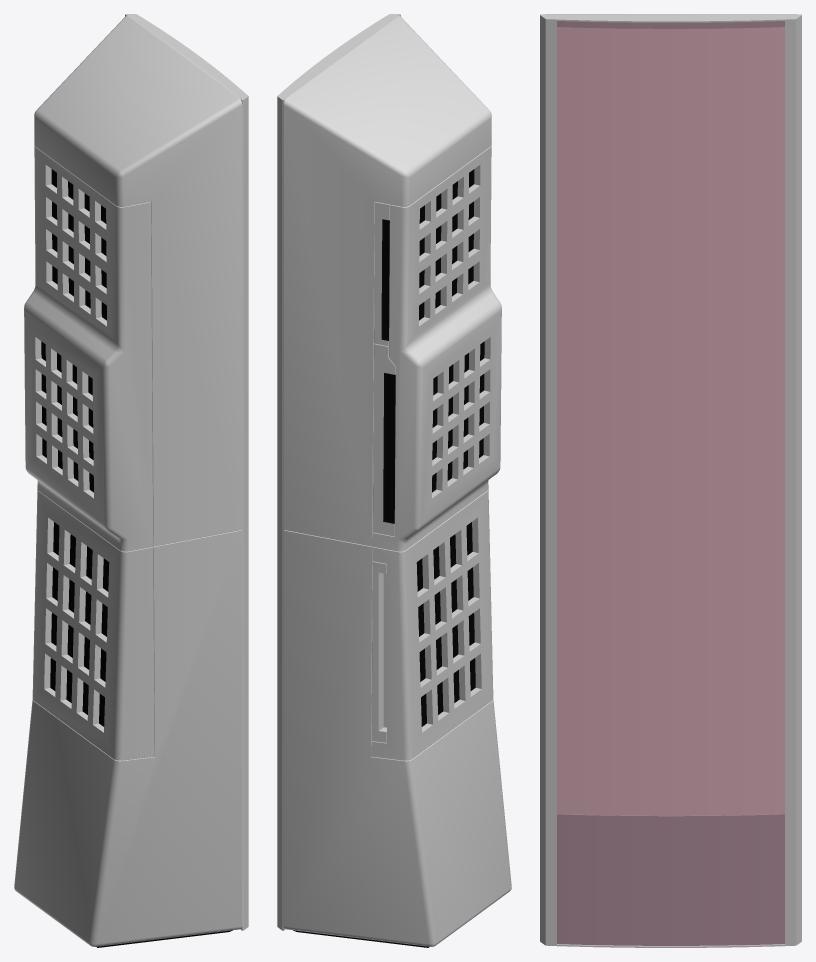
Rendered from Aircon.fbx.
3 renders of one model, left to right at view 1: azimuth 30°, elevation 25°; view 2: azimuth 150°, elevation 25°; view 3: azimuth 270°, elevation 25°, orthographic. The views are drawn at different scales.
Visible parts, largest first — view 1: aircon; view 2: aircon; view 3: aircon.
Part boxes in pixels (x1=…): aircon: x1=14, y1=14, x2=248, y2=947; aircon: x1=277, y1=14, x2=511, y2=947; aircon: x1=540, y1=14, x2=801, y2=947.
Bounding box in the file's own units: 32.57 × 180 × 45.78.
